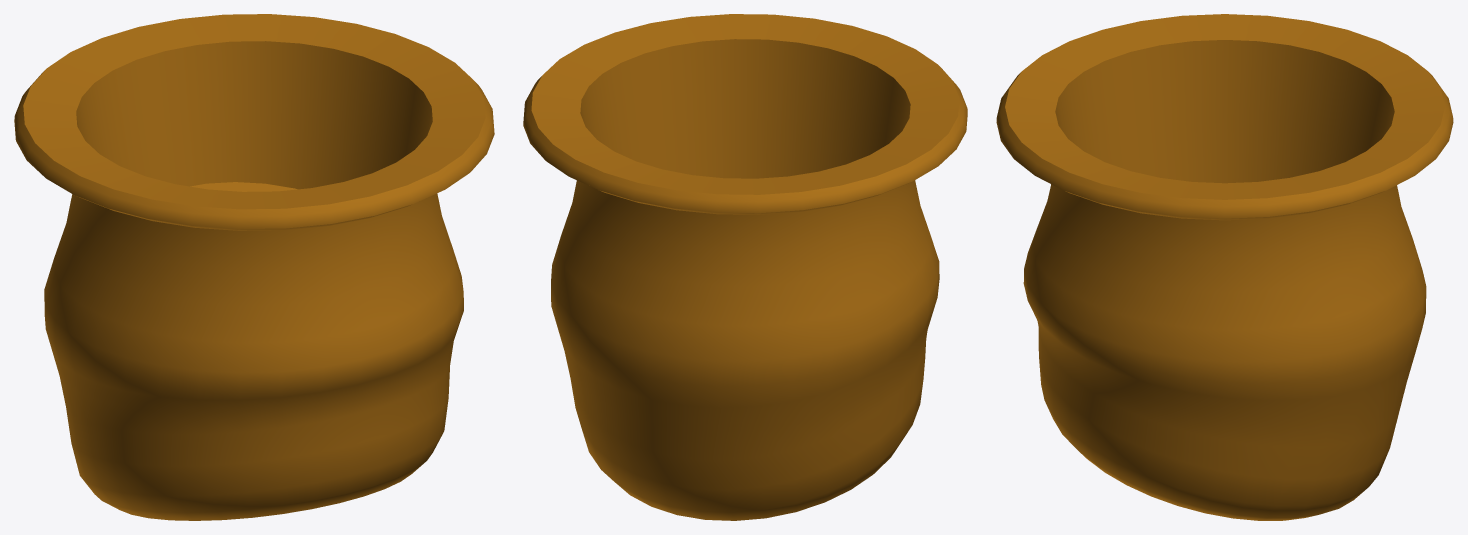
Rendered from Pote_01.fbx.
3 views of the same model, side by side, from view 1: azimuth 30°, elevation 25°; view 2: azimuth 150°, elevation 25°; view 3: azimuth 270°, elevation 25° (orthographic). The views are drawn at different scales.
Visible parts, largest first — view 1: Pote_01; view 2: Pote_01; view 3: Pote_01.
Boxes of the visible parts, box(x1,y1,x2,y2) form: Pote_01: box(14, 14, 494, 520); Pote_01: box(523, 14, 967, 520); Pote_01: box(996, 14, 1453, 520).
Bounding box in the file's own units: 24.52 × 22.3 × 24.52.
